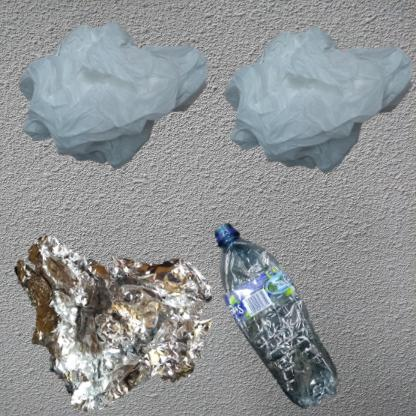aluminio: (10, 213, 229, 416)
bolsa: (213, 10, 416, 198), (10, 10, 226, 185)
botella: (213, 213, 347, 416)
